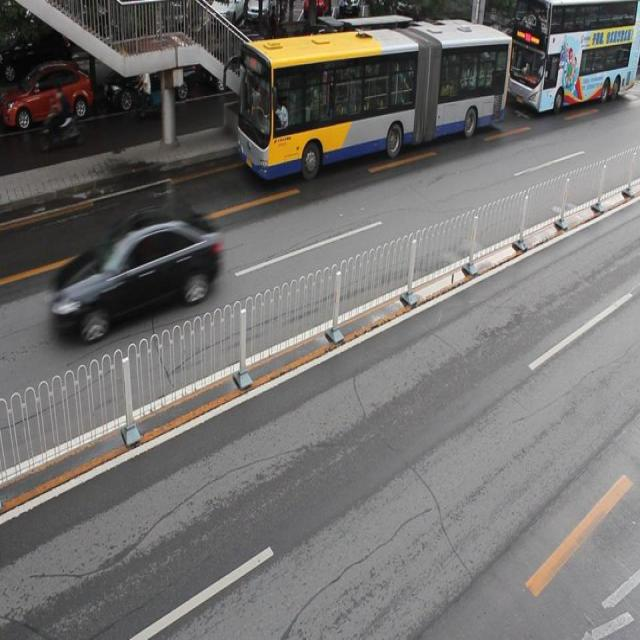car: (51, 207, 220, 333), (1, 61, 93, 129), (103, 44, 195, 105), (290, 27, 362, 86), (207, 32, 274, 94)
van: (239, 22, 510, 170), (510, 1, 640, 113)
